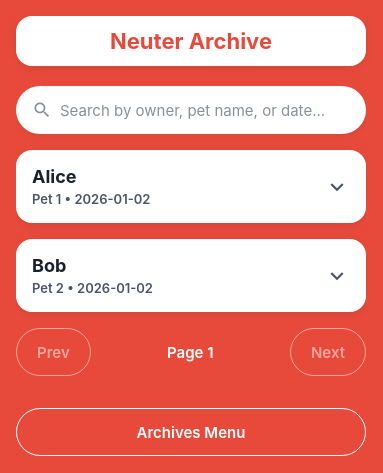
it: Neuter_Form_archive — non-reviewer (own records) stays client-side › fetches the own-records endpoint once and filters locally — no extra request on search
Expected: the text "Alice" is shown, [32,166,76,187]
Type "Alice" into the field with placeholder "Search by owner, pet name, or date...".
click(205, 110); type("Alice")  # box [60,92,350,128]
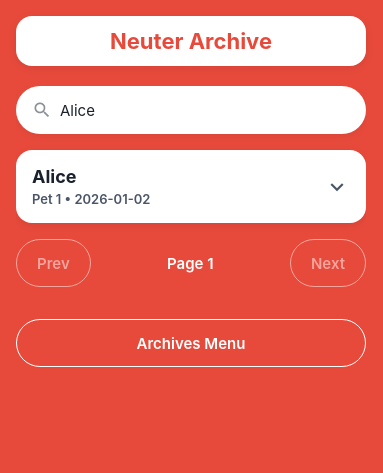
Result: the text "Bob" is gone
